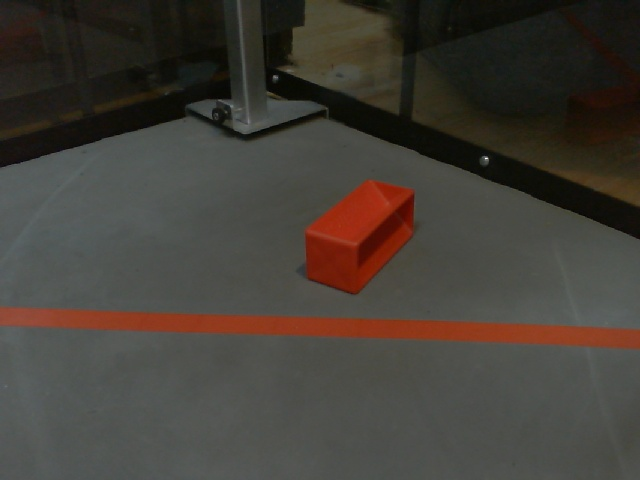RedSample: (302, 178, 417, 297)
